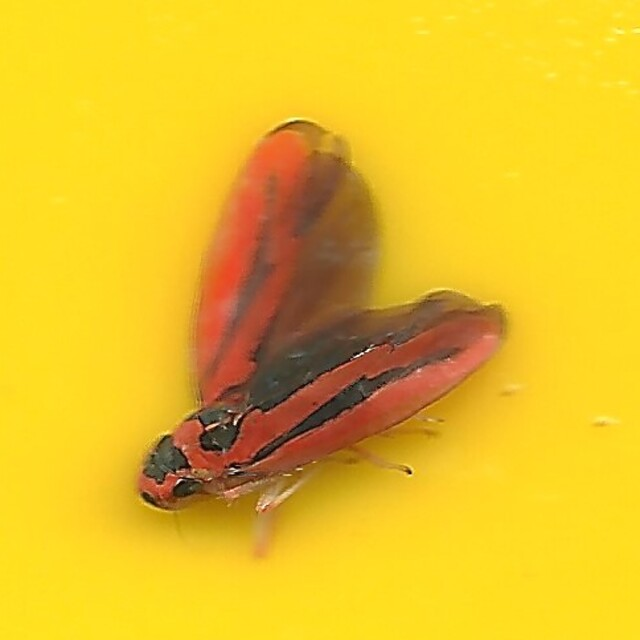Hemiptera: (132, 117, 508, 523)
